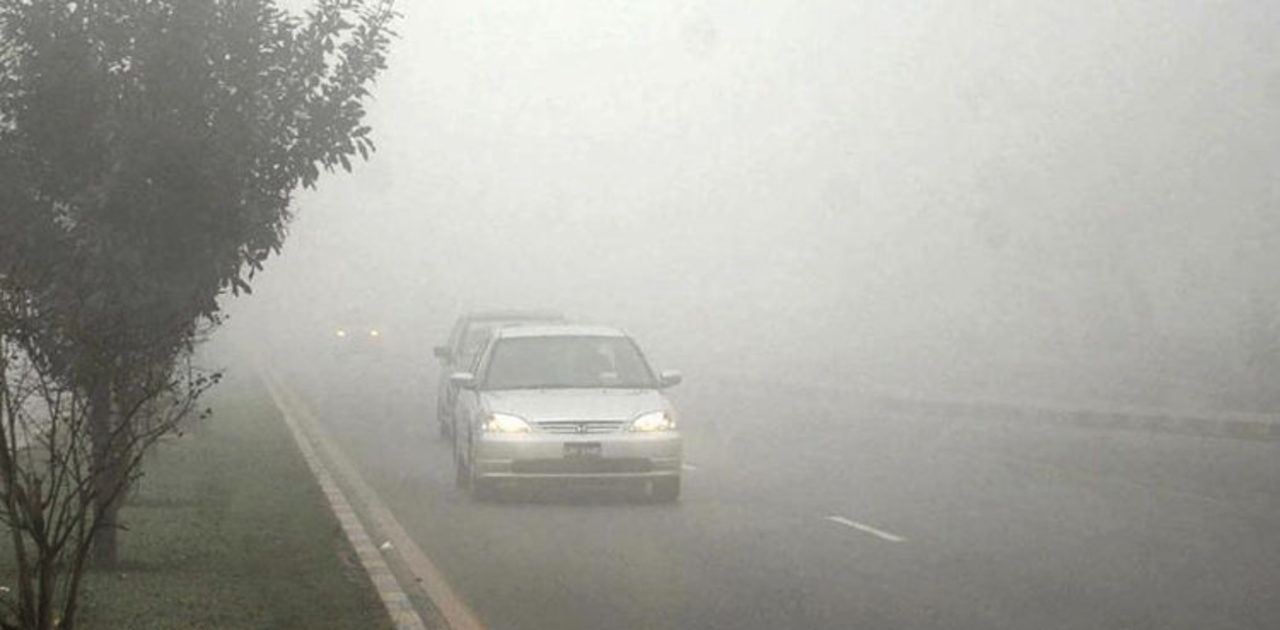car: (447, 330, 683, 504), (434, 313, 578, 438), (329, 306, 385, 362)
